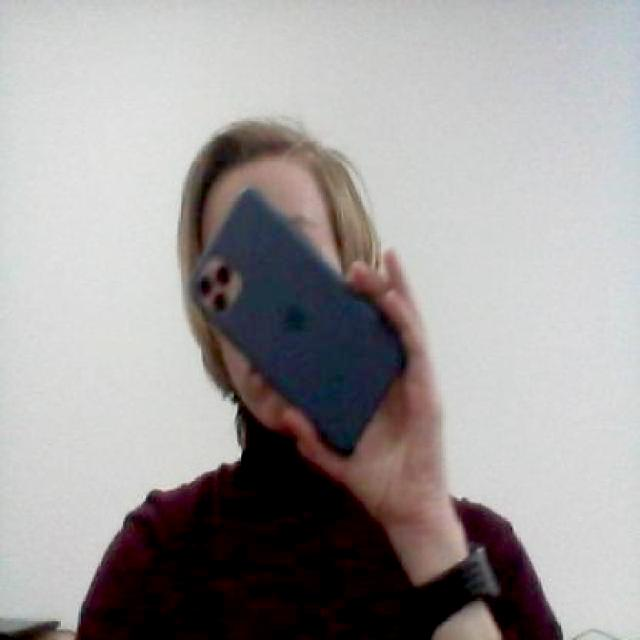phone: (188, 180, 410, 468)
